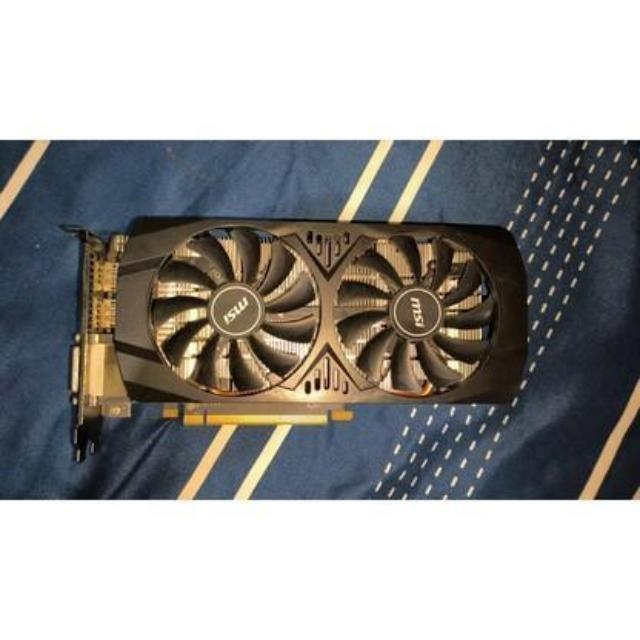GPU: (67, 202, 538, 442)
